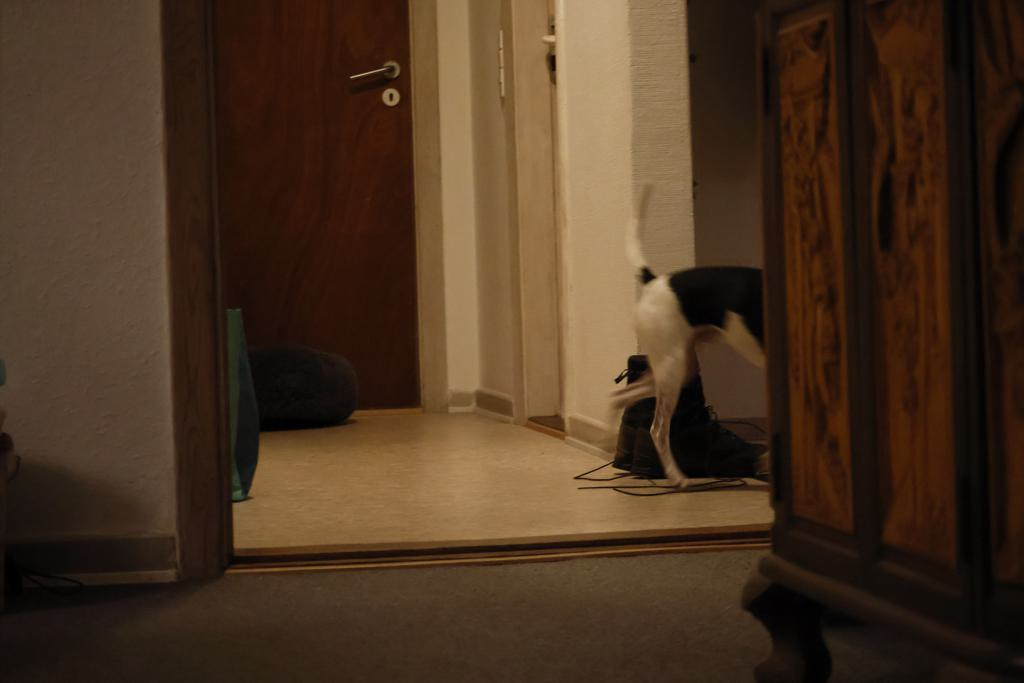Dog: (595, 167, 782, 508)
